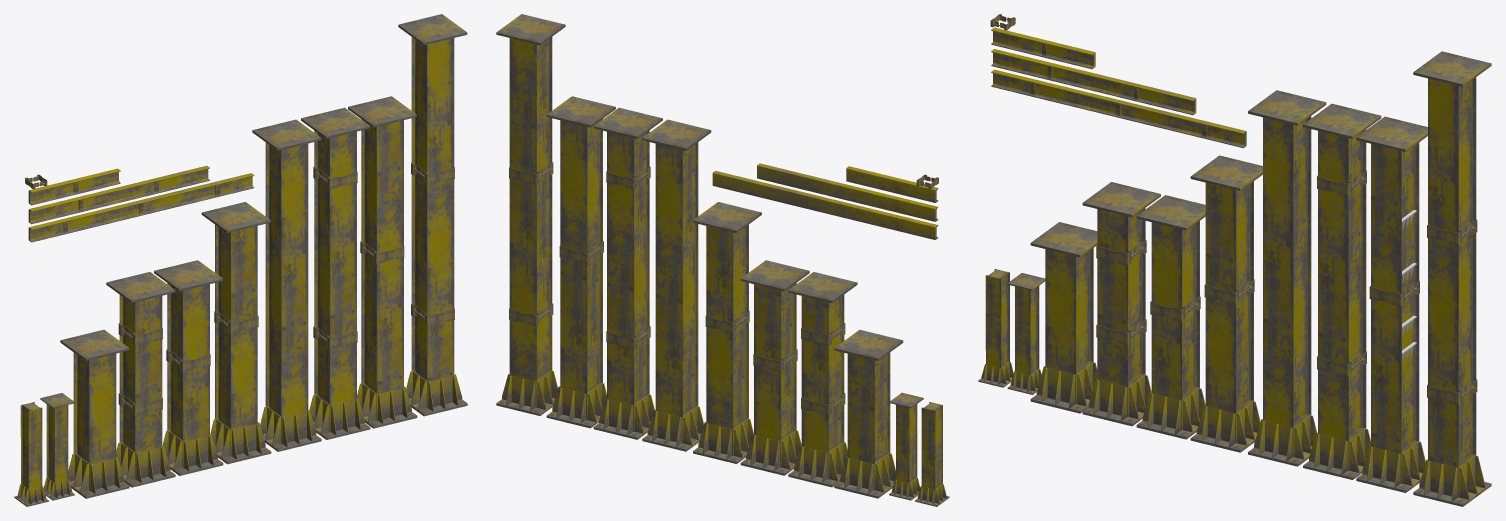
Rendered from YellowPilarsPKG.fbx.
The picture shows the model from 3 angles, left to right: view 1: azimuth 30°, elevation 25°; view 2: azimuth 150°, elevation 25°; view 3: azimuth 330°, elevation 25°; orthographic projection. The views are drawn at different scales.
Parts seen in each view (by area): view 1: SM_Pillar_8m_A.mo, SM_Pillar_6x5m_A.mo, SM_Pillar_6x5m_C.mo, SM_Pillar_6x5m_B.mo, SM_Pillar_5m_B.mo, SM_Pillar_4m_C.mo, SM_Pillar_4m_B.mo, SM_Pillar_3m_A.mo, SM_ThinEdge_5m_A.mo, SM_ThinEdge_4m_A.mo, SM_ThinPillar_2m_B.mo, SM_ThinPillar_2m_C.mo (+1 smaller); view 2: SM_Pillar_8m_A.mo, SM_Pillar_6x5m_A.mo, SM_Pillar_6x5m_C.mo, SM_Pillar_6x5m_B.mo, SM_Pillar_5m_B.mo, SM_Pillar_4m_C.mo, SM_Pillar_4m_B.mo, SM_Pillar_3m_A.mo, SM_ThinEdge_5m_A.mo, SM_ThinEdge_4m_A.mo, SM_ThinPillar_2m_B.mo, SM_ThinPillar_2m_C.mo (+1 smaller); view 3: SM_Pillar_8m_A.mo, SM_Pillar_6x5m_A.mo, SM_Pillar_6x5m_C.mo, SM_Pillar_6x5m_B.mo, SM_Pillar_5m_B.mo, SM_Pillar_4m_C.mo, SM_Pillar_4m_B.mo, SM_Pillar_3m_A.mo, SM_ThinEdge_5m_A.mo, SM_ThinEdge_4m_A.mo, SM_ThinPillar_2m_B.mo, SM_ThinPillar_2m_C.mo (+1 smaller).
Boxes of the visible parts, left/top/right/bottom form: SM_Pillar_8m_A.mo: left=398, top=14, right=467, bottom=416; SM_Pillar_6x5m_A.mo: left=252, top=119, right=321, bottom=451; SM_Pillar_6x5m_C.mo: left=301, top=107, right=370, bottom=439; SM_Pillar_6x5m_B.mo: left=348, top=96, right=417, bottom=428; SM_Pillar_5m_B.mo: left=201, top=202, right=271, bottom=464; SM_Pillar_4m_C.mo: left=106, top=272, right=175, bottom=487; SM_Pillar_4m_B.mo: left=154, top=260, right=223, bottom=475; SM_Pillar_3m_A.mo: left=60, top=329, right=129, bottom=498; SM_ThinEdge_5m_A.mo: left=28, top=173, right=254, bottom=242; SM_ThinEdge_4m_A.mo: left=28, top=165, right=209, bottom=224; SM_ThinPillar_2m_B.mo: left=40, top=393, right=74, bottom=500; SM_ThinPillar_2m_C.mo: left=14, top=402, right=48, bottom=506; SM_Pillar_8m_A.mo: left=496, top=14, right=565, bottom=415; SM_Pillar_6x5m_A.mo: left=642, top=119, right=711, bottom=451; SM_Pillar_6x5m_C.mo: left=593, top=107, right=662, bottom=439; SM_Pillar_6x5m_B.mo: left=546, top=96, right=615, bottom=428; SM_Pillar_5m_B.mo: left=693, top=202, right=761, bottom=463; SM_Pillar_4m_C.mo: left=788, top=272, right=857, bottom=487; SM_Pillar_4m_B.mo: left=740, top=260, right=809, bottom=475; SM_Pillar_3m_A.mo: left=834, top=329, right=903, bottom=498; SM_ThinEdge_5m_A.mo: left=712, top=170, right=938, bottom=239; SM_ThinEdge_4m_A.mo: left=757, top=163, right=938, bottom=221; SM_ThinPillar_2m_B.mo: left=889, top=392, right=923, bottom=500; SM_ThinPillar_2m_C.mo: left=915, top=402, right=949, bottom=506; SM_Pillar_8m_A.mo: left=1413, top=51, right=1491, bottom=506; SM_Pillar_6x5m_A.mo: left=1248, top=90, right=1326, bottom=466; SM_Pillar_6x5m_C.mo: left=1303, top=103, right=1381, bottom=479; SM_Pillar_6x5m_B.mo: left=1356, top=116, right=1427, bottom=492; SM_Pillar_5m_B.mo: left=1190, top=155, right=1262, bottom=452; SM_Pillar_4m_C.mo: left=1082, top=182, right=1160, bottom=426; SM_Pillar_4m_B.mo: left=1136, top=195, right=1205, bottom=439; SM_Pillar_3m_A.mo: left=1030, top=222, right=1097, bottom=413; SM_ThinEdge_5m_A.mo: left=991, top=69, right=1246, bottom=148; SM_ThinEdge_4m_A.mo: left=991, top=49, right=1196, bottom=115; SM_ThinPillar_2m_B.mo: left=1007, top=273, right=1045, bottom=394; SM_ThinPillar_2m_C.mo: left=978, top=269, right=1013, bottom=387.
Size of the model in its own units: 975 by 800 by 99.33.
